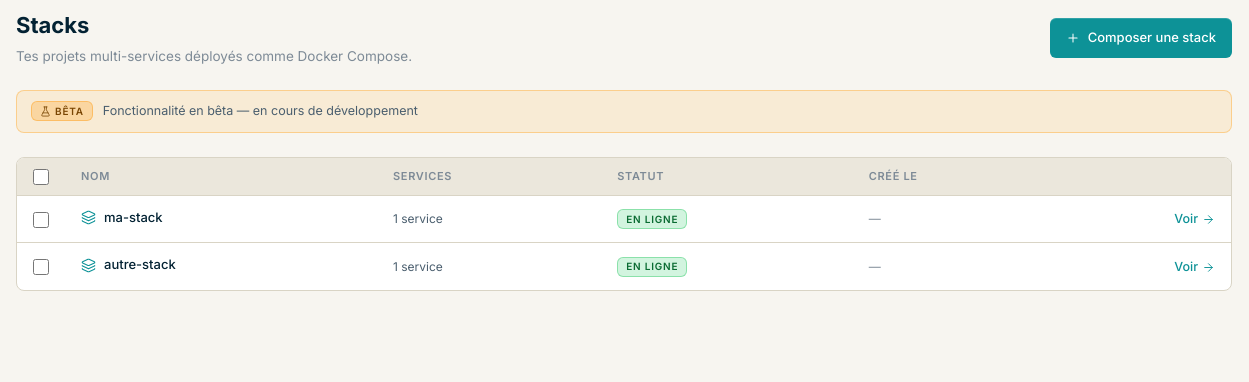
Test: StacksPage › sélectionne toutes les stacks via la case d’en-tête
The width and height of the screenshot is (1249, 382).
Expected: the table is shown, [17,158,1231,290]
Click the checkbox named "Tout sélectionner": [41, 177] box [33,169,49,185]
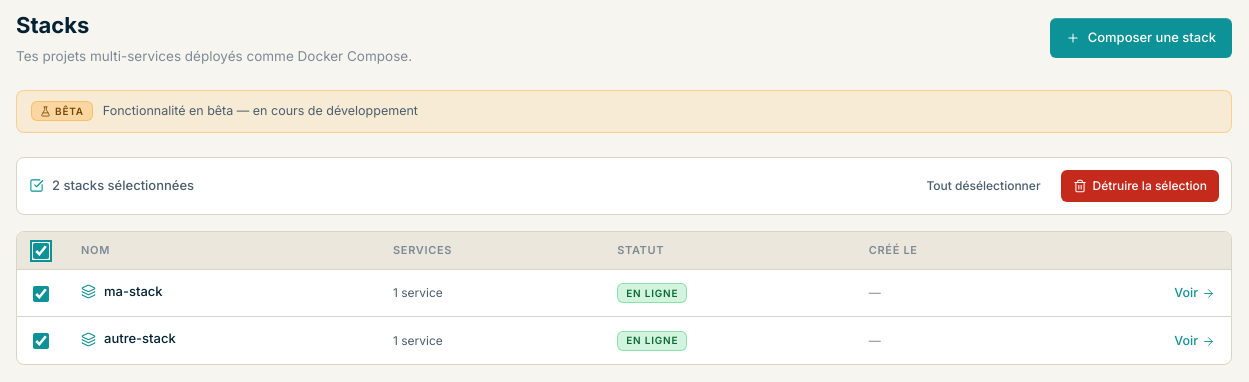
Result: the text "2 stacks sélectionnées" is shown at [29,176,194,195]
